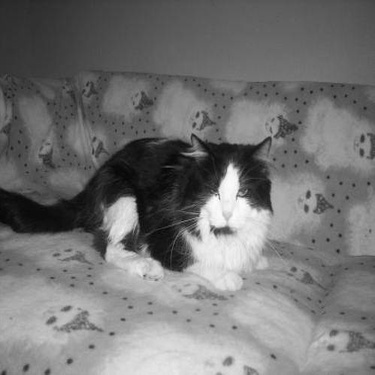cat: (1, 132, 272, 292)
